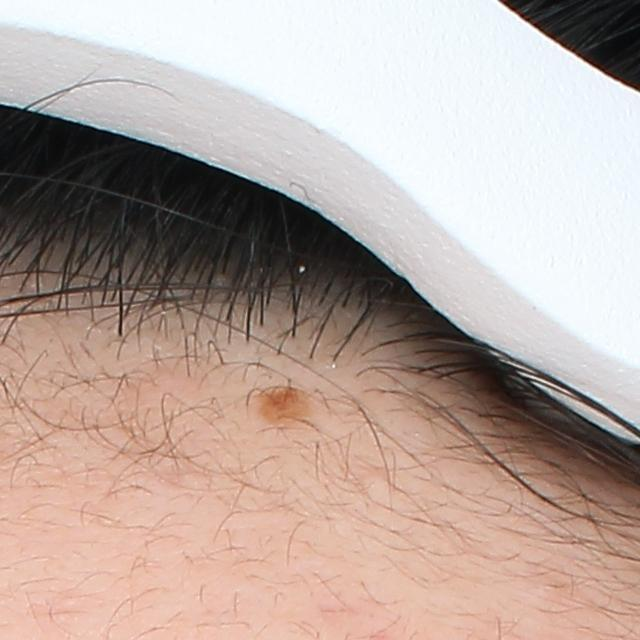nevus: (249, 384, 308, 430)
